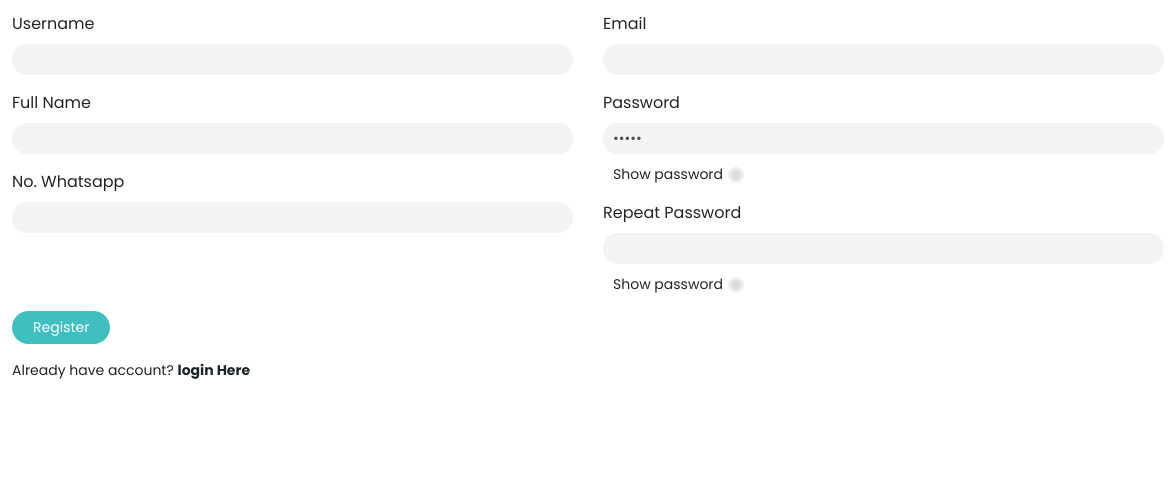
Scenario: Password Test › renders an error when password doesn't contain atleast 8 characters
Click the button "Register". click: [61, 328]
box: [12,311,110,344]
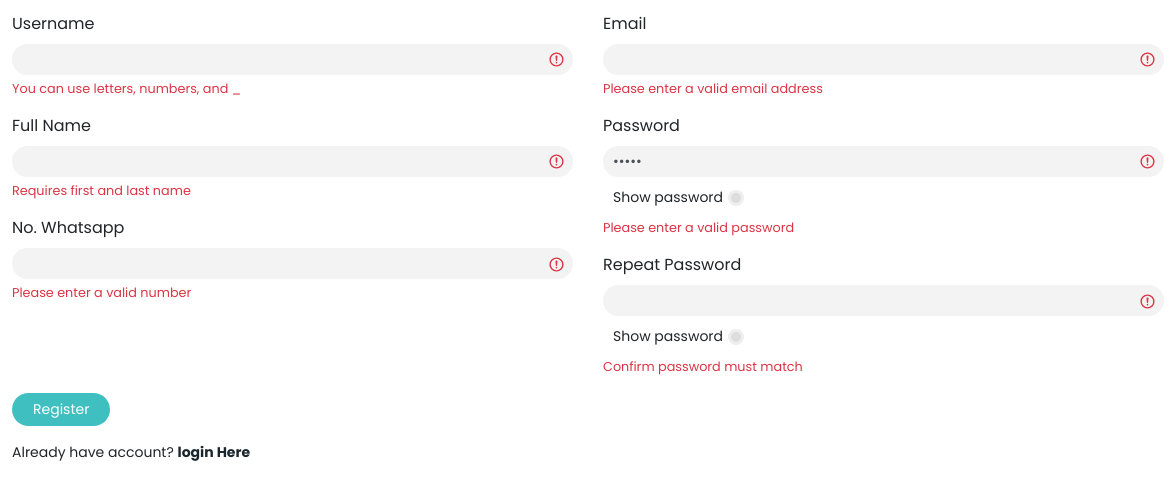
Result: the text with class "error_password" reads "Please enter a valid password" at [603,219,794,236]
